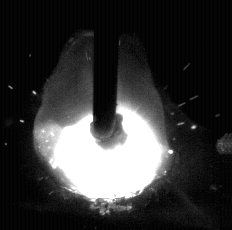arame: (93, 0, 118, 149)
poca: (32, 0, 168, 230)
